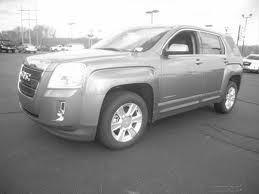car: (14, 26, 245, 153)
